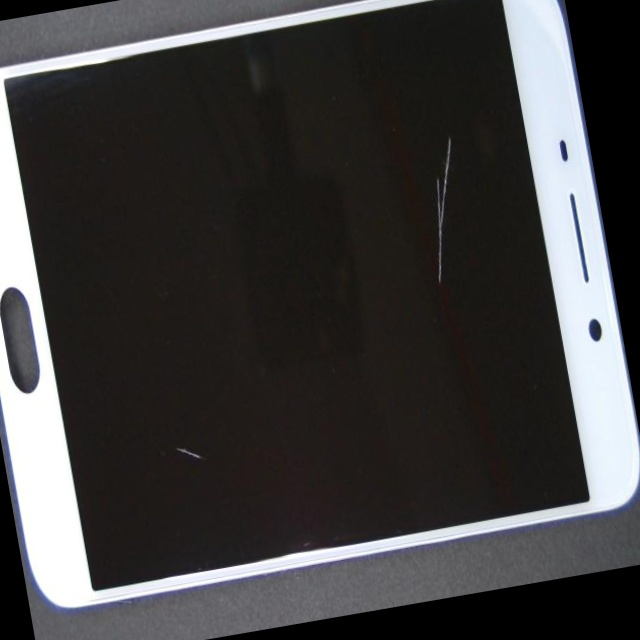scratch: (189, 0, 611, 329), (90, 221, 326, 640)
